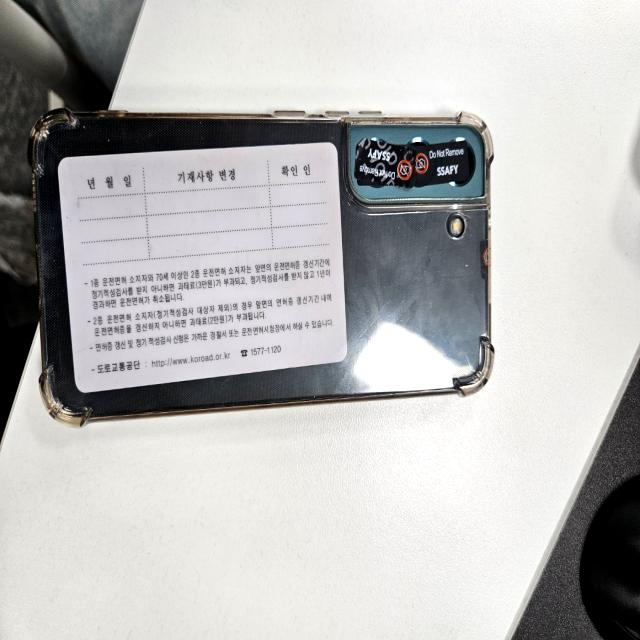phone: (32, 106, 496, 415)
removed_sticker: (356, 137, 413, 188)
sticker: (415, 139, 469, 187)
